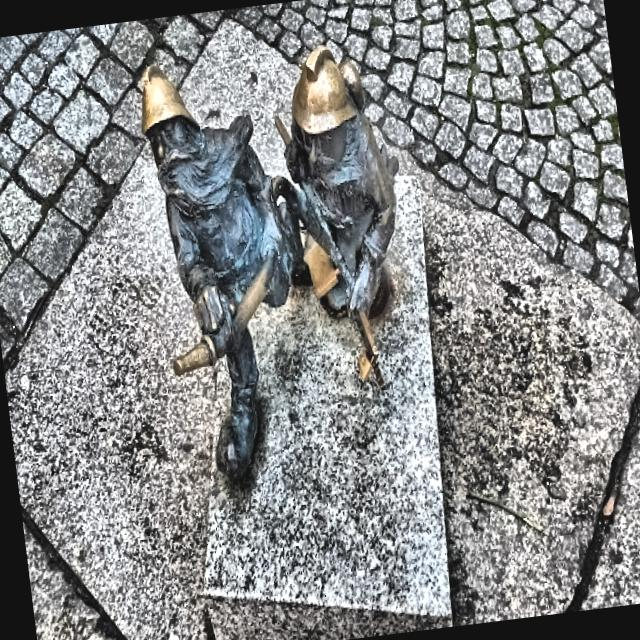Pozarki: (141, 46, 398, 472)
